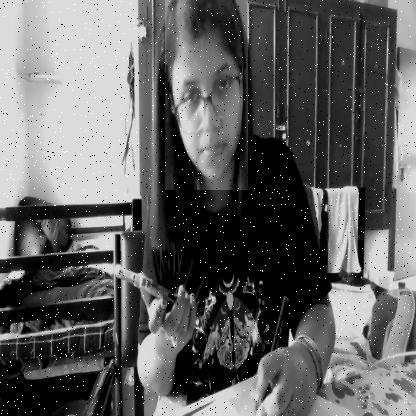Normal: (165, 0, 248, 190)
